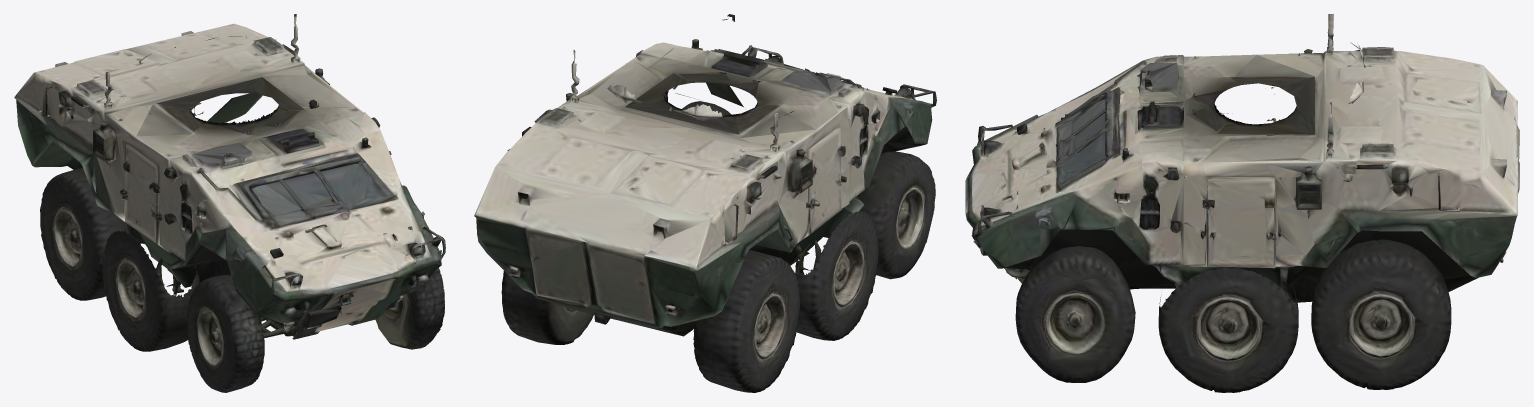
The model's file is t94_bulldog_lod0m.glb.
3 renders of one model, left to right at view 1: azimuth 30°, elevation 25°; view 2: azimuth 150°, elevation 25°; view 3: azimuth 270°, elevation 25°, orthographic. The views are drawn at different scales.
Size of the model in its own units: 2.69 by 2.75 by 4.9.
Materials: 1 (1 with a texture image).
